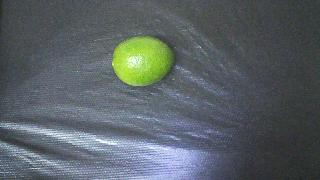LOCAL: (112, 36, 174, 86)
